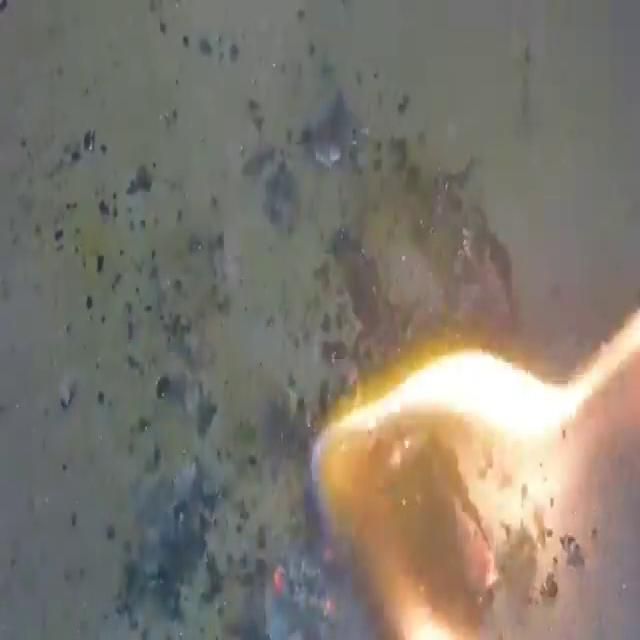Fire: (2, 4, 637, 636), (310, 308, 638, 638)
